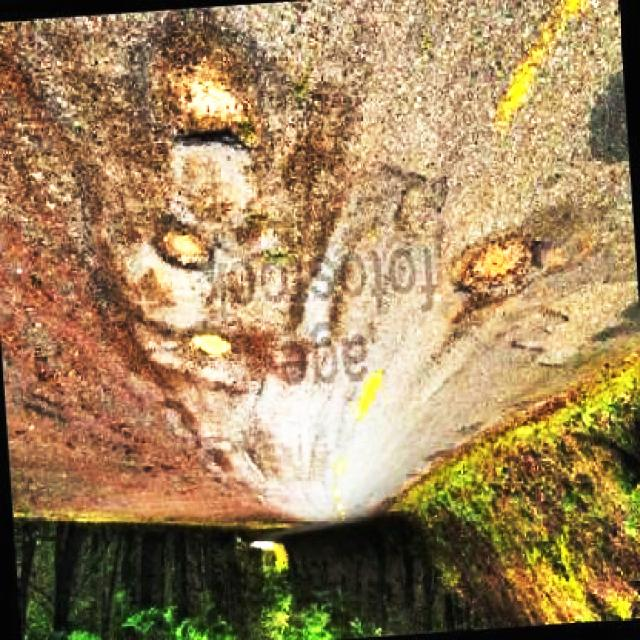pothole: (158, 6, 264, 145), (511, 277, 637, 366), (454, 226, 554, 303), (150, 214, 222, 275), (178, 324, 240, 362)
